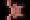breastplate: (5, 0, 25, 20)
